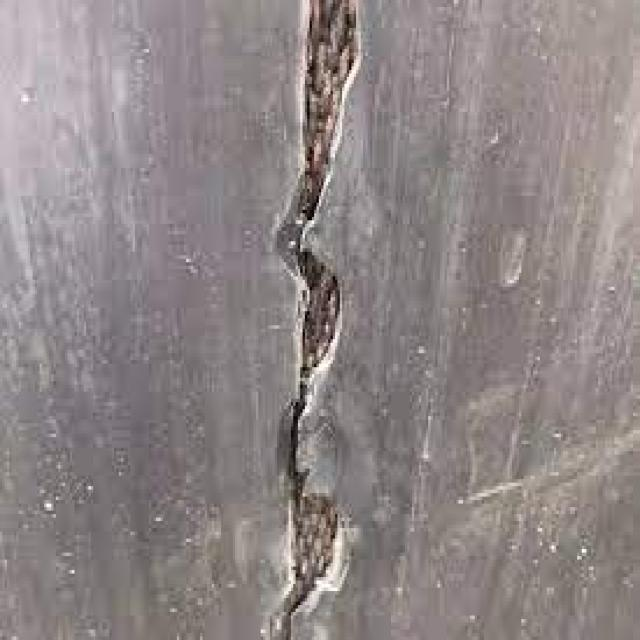Tear: (260, 0, 372, 640)
